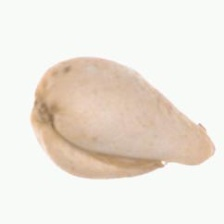L1: (27, 75, 58, 131), (181, 125, 217, 167)
L2: (29, 56, 216, 181)
